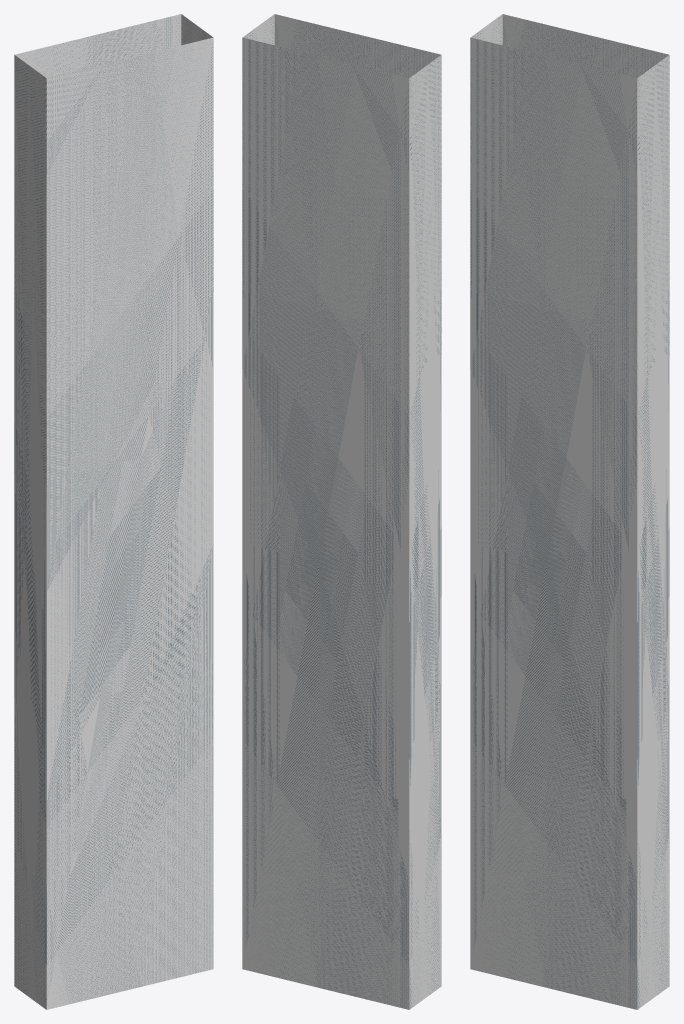
The model's file is Column_ds_075x025x4.dae.
The picture shows the model from 3 angles, left to right: view 1: azimuth 30°, elevation 25°; view 2: azimuth 150°, elevation 25°; view 3: azimuth 330°, elevation 25°; orthographic projection.
Visible parts, largest first — view 1: group_0; view 2: group_0; view 3: group_0.
Part boxes in pixels (box(x1,y1,x2,y2)): group_0: box(14, 14, 213, 1009); group_0: box(242, 14, 441, 1009); group_0: box(470, 14, 669, 1009).
Bounding box in the file's own units: 29.53 × 9.84 × 157.
